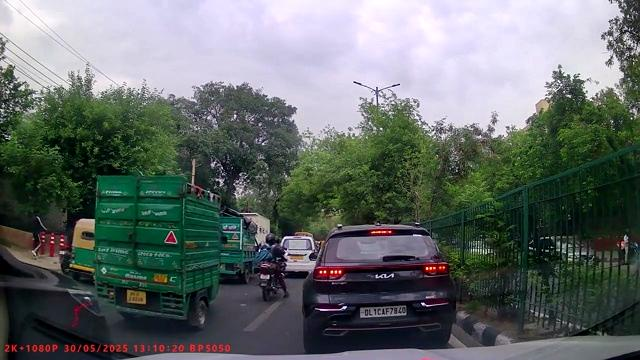motorcycle_with_helmet: (256, 232, 290, 302)
